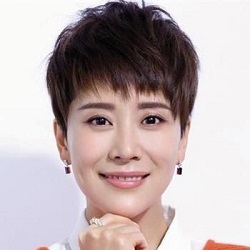unmask: (57, 57, 185, 221)
